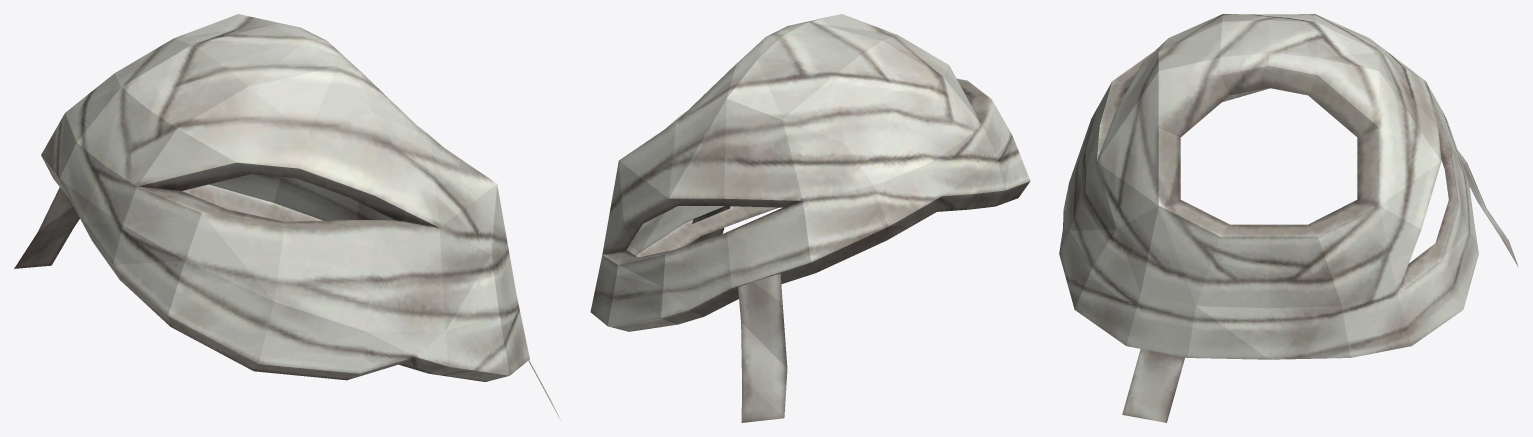
File: Mole_mummyHead.obj
3 renders of one model, left to right at view 1: azimuth 30°, elevation 25°; view 2: azimuth 150°, elevation 25°; view 3: azimuth 270°, elevation 25°, orthographic. The views are drawn at different scales.
Parts seen in each view (by area): view 1: Mole_mummyHead_tri; view 2: Mole_mummyHead_tri; view 3: Mole_mummyHead_tri.
Part boxes in pixels (x1=…): Mole_mummyHead_tri: x1=14, y1=14, x2=560, y2=420; Mole_mummyHead_tri: x1=590, y1=14, x2=1030, y2=422; Mole_mummyHead_tri: x1=1059, y1=14, x2=1518, y2=422.
Size of the model in its own units: 0.2827 by 0.2388 by 0.3348.
1 material, 1 textured.
